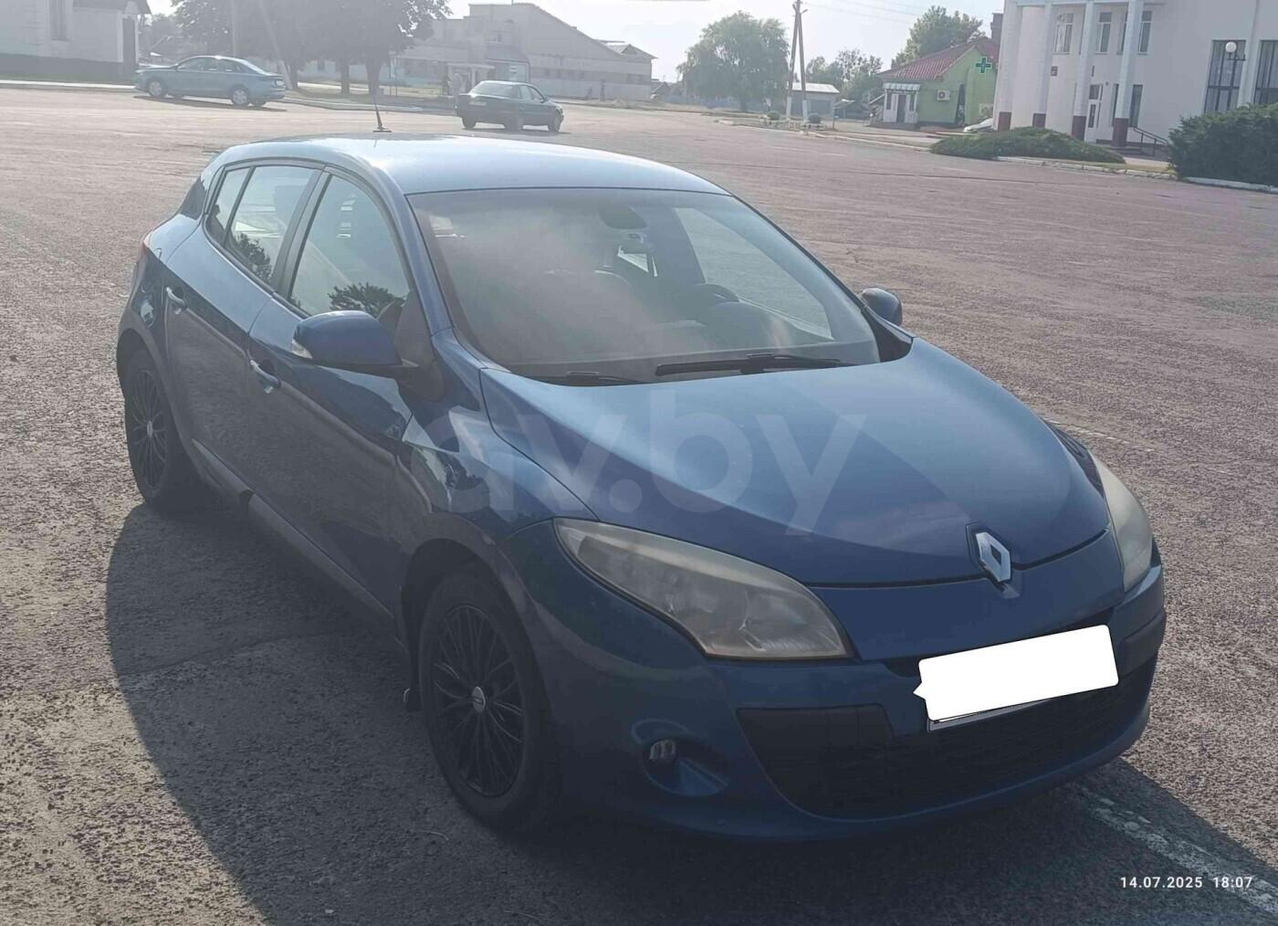Megane_2008-2014: (112, 120, 1178, 848)
